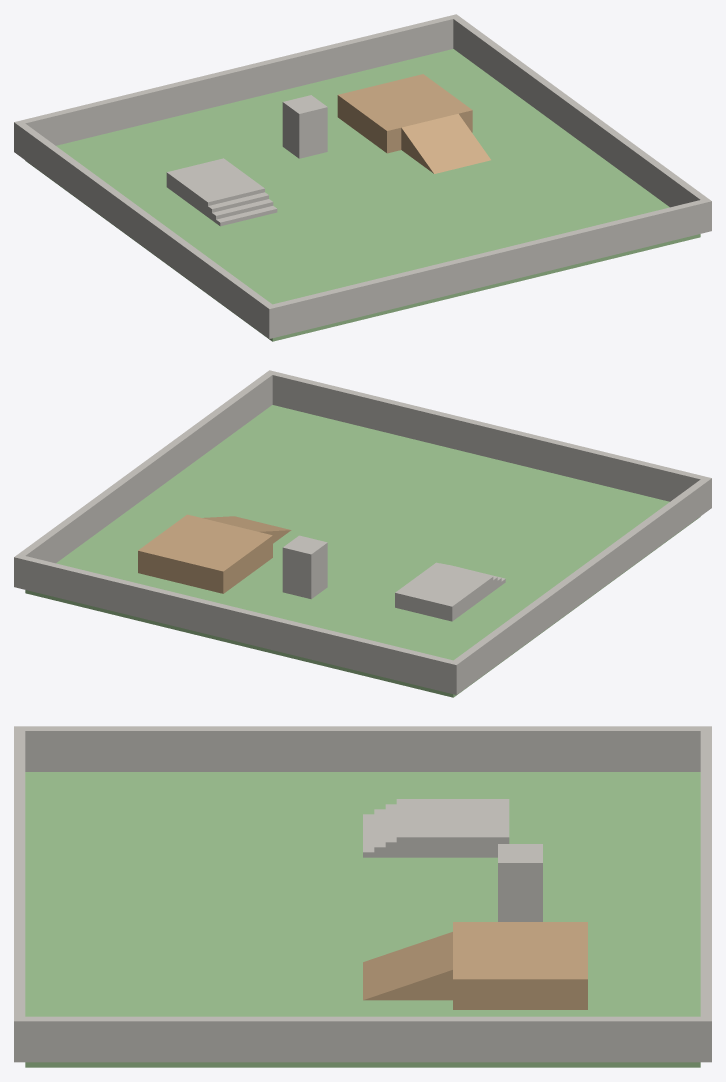
The model's file is yard.glb.
3 renders of one model, top to bottom at view 1: azimuth 30°, elevation 25°; view 2: azimuth 150°, elevation 25°; view 3: azimuth 270°, elevation 25°, orthographic. The views are drawn at different scales.
Visible parts, largest first — view 1: yard; view 2: yard; view 3: yard.
Boxes of the visible parts, x1,y1,x2,y2 form: yard: (14, 14, 711, 341); yard: (14, 370, 711, 697); yard: (14, 726, 711, 1067).
Bounding box in the file's own units: 31 × 3.5 × 31.
